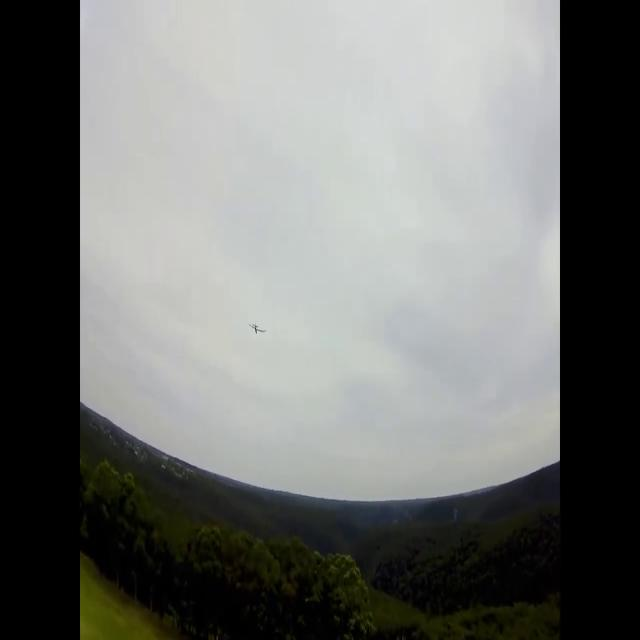iha: (250, 318, 266, 323)
